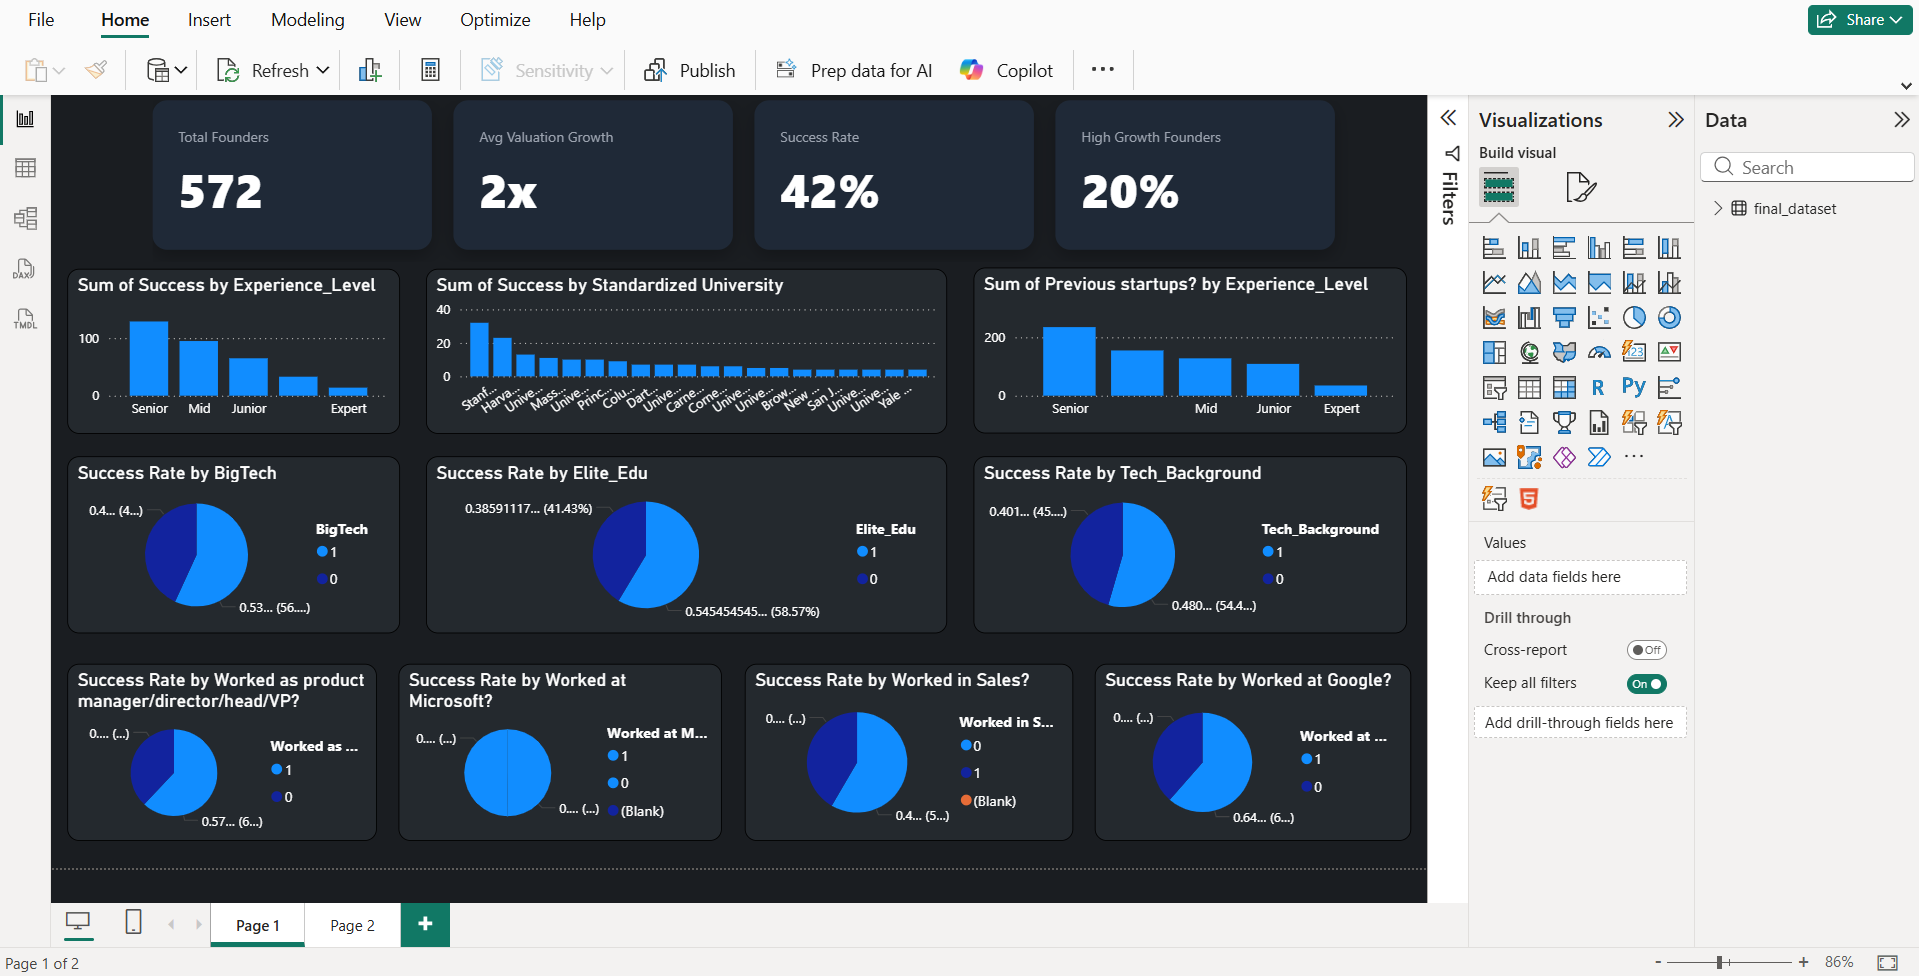

Layout of this report page (visuals, bound fields, positions):
{"tool":"powerbi","page":{"name":"Page 1","canvas":[1280,720],"ordinal":0},"visuals":[{"type":"htmlContent443BE3AD55E043BF878BED274D3A6855","fields":{"content":["final_dataset.KPI_HTML"]},"box":[89.5,0,1190.7,160.5],"z":0},{"type":"clusteredColumnChart","fields":{"Category":["final_dataset.Experience_Level"],"Y":["Sum(final_dataset.Success)"]},"box":[15.1,161.6,309.3,153.5],"z":1000},{"type":"columnChart","fields":{"Category":["final_dataset.Standardized University"],"Y":["Sum(final_dataset.Success)"]},"box":[348.8,161.6,484.9,153.5],"z":2000},{"type":"clusteredColumnChart","fields":{"Category":["final_dataset.Experience_Level"],"Y":["Sum(final_dataset.Previous startups?)"]},"box":[858.1,160.5,403.5,154.7],"z":3000},{"type":"pieChart","fields":{"Category":["final_dataset.BigTech"],"Y":["final_dataset.Success Rate"]},"box":[15.1,336,309.3,165.1],"z":4000},{"type":"pieChart","fields":{"Y":["final_dataset.Success Rate"],"Category":["final_dataset.Elite_Edu"]},"box":[348.8,336,484.9,165.1],"z":5000},{"type":"pieChart","fields":{"Category":["final_dataset.Tech_Background"],"Y":["final_dataset.Success Rate"]},"box":[858.1,336,403.5,165.1],"z":6000},{"type":"pieChart","fields":{"Y":["final_dataset.Success Rate"],"Category":["final_dataset.Worked at Google?"]},"box":[970.9,529.1,294.2,165.1],"z":7000},{"type":"pieChart","fields":{"Category":["final_dataset.Worked as product manager/director/head/VP?"],"Y":["final_dataset.Success Rate"]},"box":[15.1,529.1,288.4,165.1],"z":8000},{"type":"pieChart","fields":{"Category":["final_dataset.Worked at Microsoft?"],"Y":["final_dataset.Success Rate"]},"box":[323.6,529.1,301.2,165.1],"z":9000},{"type":"pieChart","fields":{"Y":["final_dataset.Success Rate"],"Category":["final_dataset.Worked in Sales?"]},"box":[645,529.1,305.8,165.1],"z":10000}]}

Visuals, with their boxes on the page's 1280x720 design canvas (x1, y1, x2, y2). These are canvas units, not pixel positions in the 1919x976 screenshot, which may show the page scaled, cropped or inside an application window:
htmlContent443BE3AD55E043BF878BED274D3A6855 - final_dataset.KPI_HTML: BBox(90, 0, 1280, 160)
clusteredColumnChart - final_dataset.Experience_Level x Sum(final_dataset.Success): BBox(15, 162, 324, 315)
columnChart - final_dataset.Standardized University x Sum(final_dataset.Success): BBox(349, 162, 834, 315)
clusteredColumnChart - final_dataset.Experience_Level x Sum(final_dataset.Previous startups?): BBox(858, 160, 1262, 315)
pieChart - final_dataset.BigTech x final_dataset.Success Rate: BBox(15, 336, 324, 501)
pieChart - final_dataset.Success Rate x final_dataset.Elite_Edu: BBox(349, 336, 834, 501)
pieChart - final_dataset.Tech_Background x final_dataset.Success Rate: BBox(858, 336, 1262, 501)
pieChart - final_dataset.Success Rate x final_dataset.Worked at Google?: BBox(971, 529, 1265, 694)
pieChart - final_dataset.Worked as product manager/director/head/VP? x final_dataset.Success Rate: BBox(15, 529, 304, 694)
pieChart - final_dataset.Worked at Microsoft? x final_dataset.Success Rate: BBox(324, 529, 625, 694)
pieChart - final_dataset.Success Rate x final_dataset.Worked in Sales?: BBox(645, 529, 951, 694)
